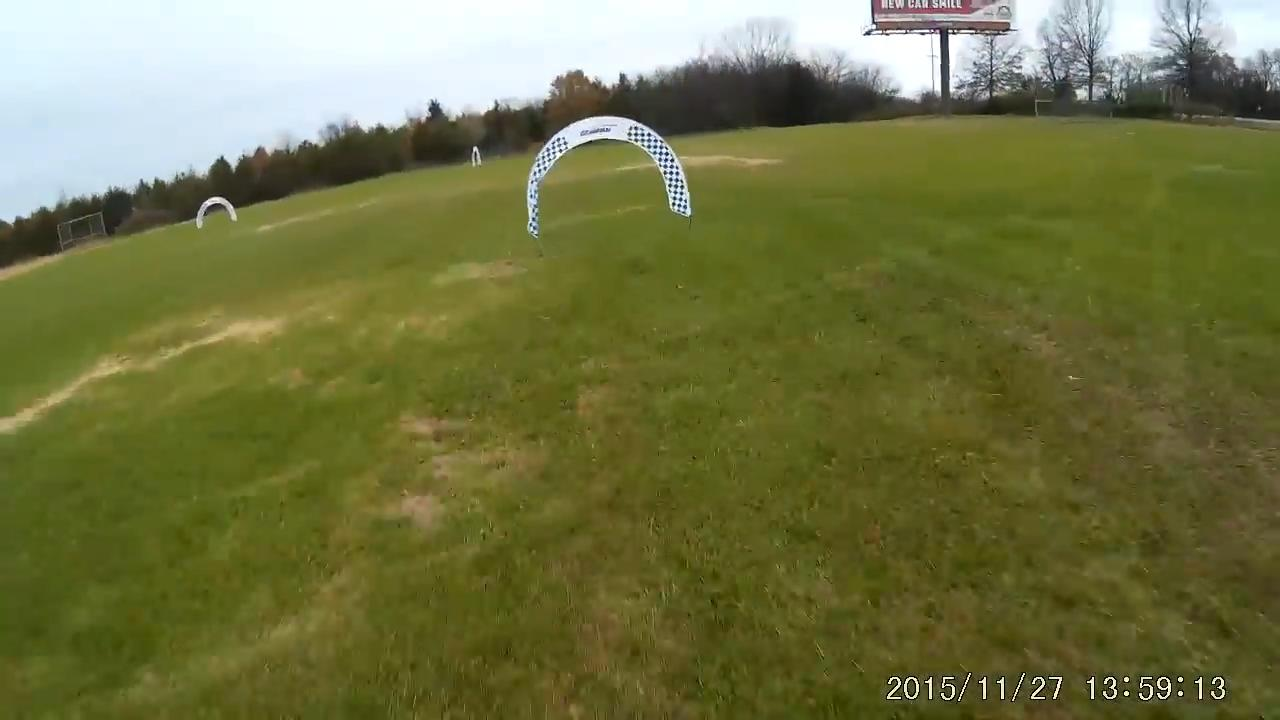gate: (522, 116, 696, 238)
